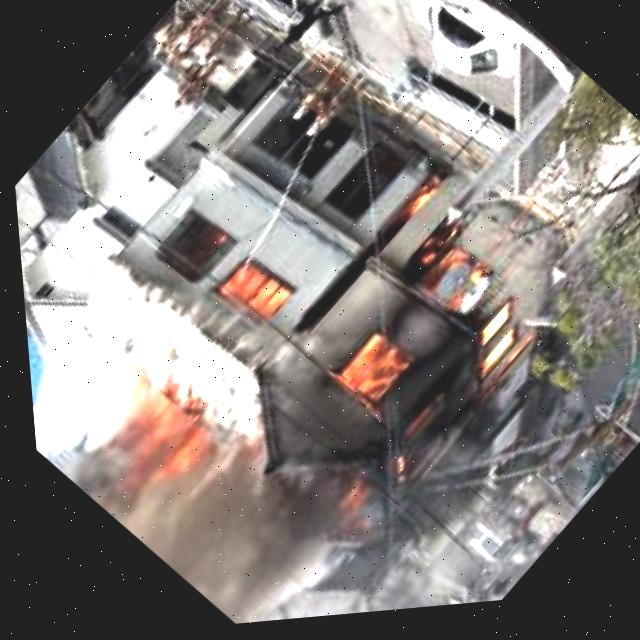Fire: (251, 166, 593, 510), (35, 329, 241, 536), (198, 244, 295, 342)
Smoke: (122, 392, 396, 633), (72, 224, 287, 444), (19, 290, 139, 451)
